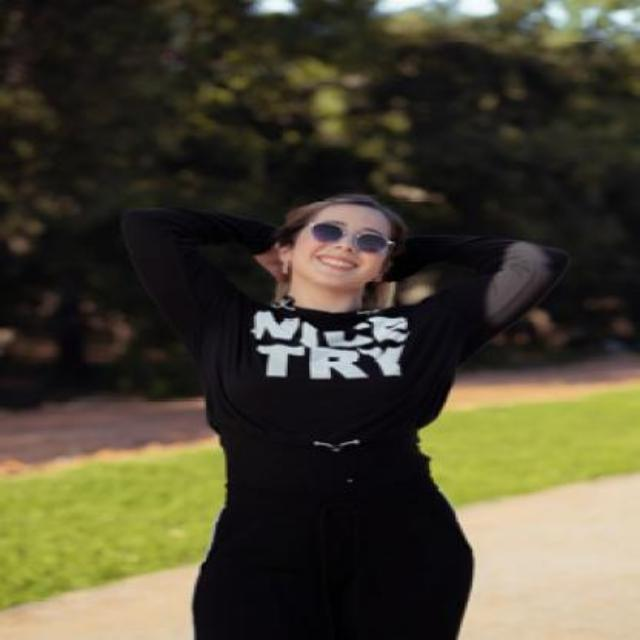sunglasses: (302, 221, 394, 251)
